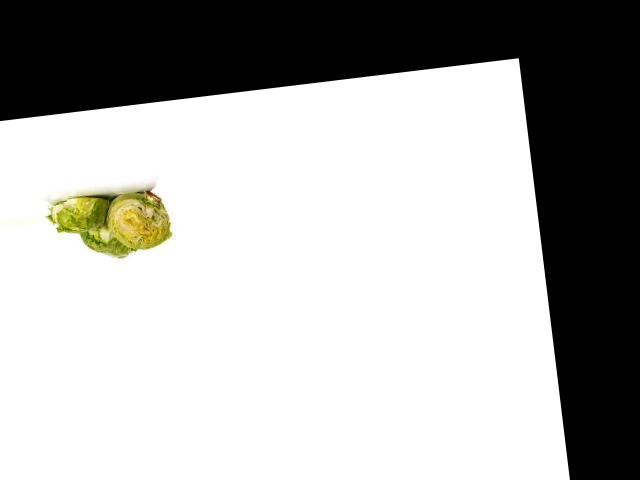lettuce: (73, 214, 143, 265)
